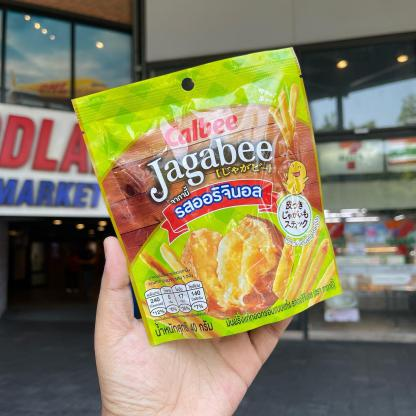potatochip: (69, 46, 343, 346)
